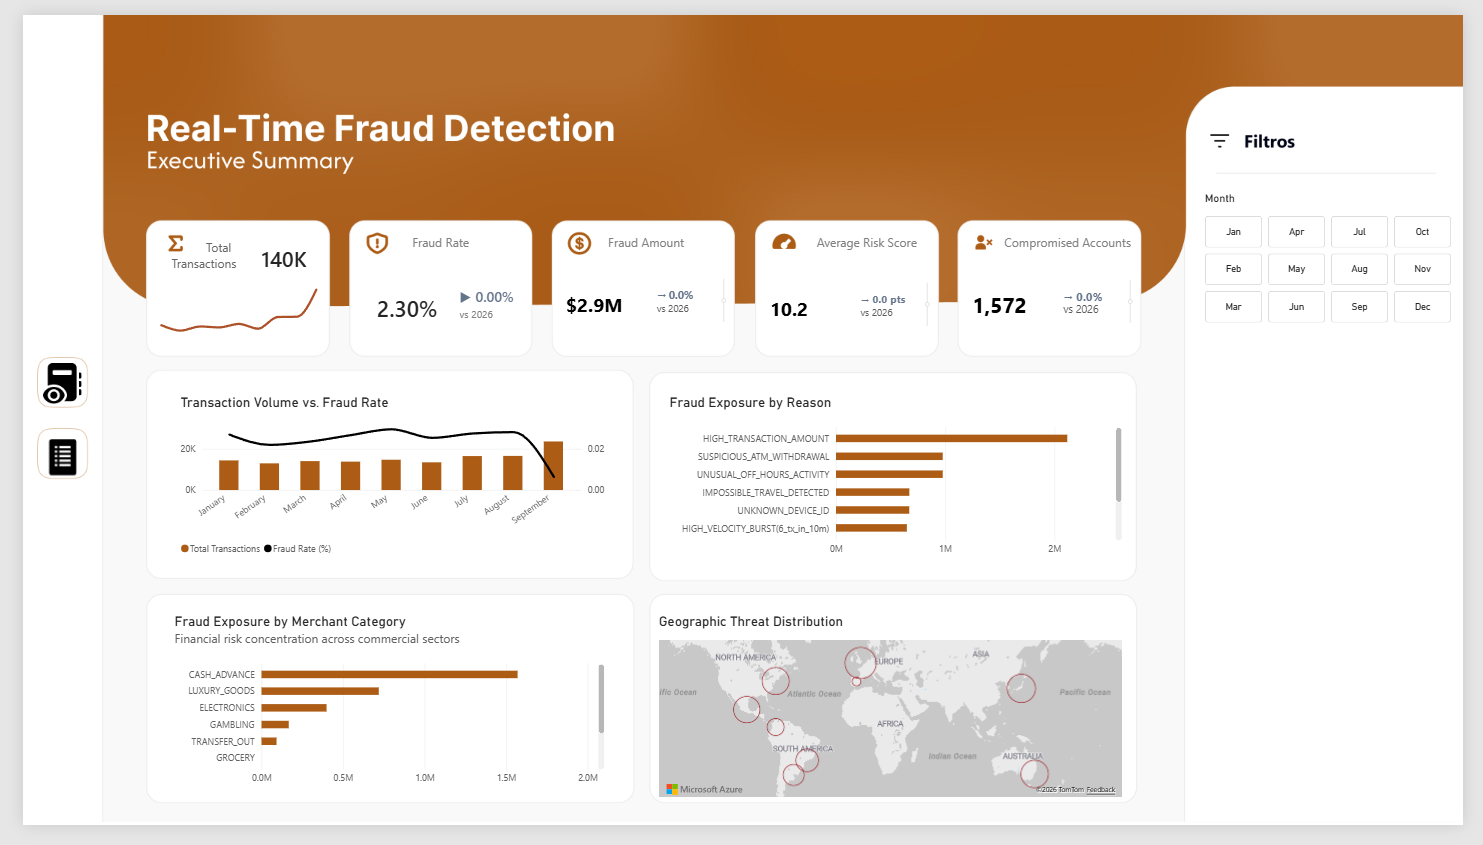

This screenshot's page, from the dashboard's own definition file:
{"tool":"powerbi","page":{"name":"Summary","canvas":[1920,1080],"ordinal":0},"visuals":[{"type":"cardVisual","fields":{"Data":["_Measures.Total Transactions"]},"box":[301.4,297.1,109,52],"z":0},{"type":"cardVisual","title":"Fraud Rate","fields":{"Data":["_Measures.Fraud Rate (%)"]},"box":[455.2,324,170,111],"z":1000},{"type":"image","box":[723.3,328.3,216.7,117.8],"z":2000},{"type":"lineChart","fields":{"Category":["Serie Temporal.time_minute.Variation.Date Hierarchy.Year","Serie Temporal.time_minute.Variation.Date Hierarchy.Month","Serie Temporal.time_minute.Variation.Date Hierarchy.Day"],"Y":["Sum(Serie Temporal.total_transactions)"]},"box":[158.1,336.2,259.5,117.1],"z":3000},{"type":"textbox","box":[198.6,297.1,109.2,62.5],"z":4000},{"type":"advancedSlicerVisual","fields":{"Values":["Dim_Calendar.Month"]},"box":[1575,236.7,330.9,174.5],"z":5000},{"type":"cardVisual","fields":{"Data":["_Measures.Fraud Rate MoM"]},"box":[565,350,120,71.2],"z":6000},{"type":"textbox","box":[487,292,137.7,31.5],"z":7000},{"type":"textbox","box":[762.2,292.2,137.7,31.5],"z":8000},{"type":"image","box":[1265.6,337,216.7,104.4],"z":9000},{"type":"textbox","box":[1303.3,292.2,177.8,31.1],"z":10000},{"type":"image","box":[996.7,335,216,112],"z":11000},{"type":"textbox","box":[1033.3,291.7,177.8,31.1],"z":12000},{"type":"lineStackedColumnComboChart","title":"Transaction Volume vs. Fraud Rate","fields":{"Category":["Dim_Calendar.Date.Variation.Date Hierarchy.Year","Dim_Calendar.Date.Variation.Date Hierarchy.Quarter","Dim_Calendar.Date.Variation.Date Hierarchy.Month","Dim_Calendar.Date.Variation.Date Hierarchy.Day"],"Y":["_Measures.Total Transactions"],"Y2":["_Measures.Fraud Rate (%)"]},"box":[193,492,598,248.4],"z":13000},{"type":"clusteredBarChart","title":" Fraud Exposure by Reason","fields":{"Category":["Por Motivo.fraud_rule"],"Y":["Sum(Por Motivo.exposed_amount)"]},"box":[846.7,491.7,635,248.3],"z":14000},{"type":"clusteredBarChart","title":"Fraud Exposure by Merchant Category","fields":{"Category":["Merchant Risk.merchant_category"],"Y":["Sum(Merchant Risk.fraud_amount)"]},"box":[186.7,783.3,605,261.7],"z":15000},{"type":"azureMap","title":"Geographic Threat Distribution","fields":{"Category":["Geo Risk.city"],"Size":["Sum(Geo Risk.fraud_amount)"],"X":["Min(Geo Risk.longitude)"],"Y":["Min(Geo Risk.latitude)"]},"box":[831.7,783.3,650,275],"z":16000},{"type":"image","box":[25.6,464.4,53.3,54.4],"z":17000},{"type":"image","box":[24.5,560,54,55],"z":18000}]}

Visuals, with their boxes on the page's 1920x1080 design canvas (x1, y1, x2, y2). These are canvas units, not pixel positions in the 1483x845 screenshot, which may show the page scaled, cropped or inside an application window:
cardVisual - _Measures.Total Transactions: [301,297,410,349]
"Fraud Rate" cardVisual: [455,324,625,435]
image: [723,328,940,446]
lineChart - Serie Temporal.time_minute.Variation.Date Hierarchy.Year x Serie Temporal.time_minute.Variation.Date Hierarchy.Month: [158,336,418,453]
textbox: [199,297,308,360]
advancedSlicerVisual - Dim_Calendar.Month: [1575,237,1906,411]
cardVisual - _Measures.Fraud Rate MoM: [565,350,685,421]
textbox: [487,292,625,324]
textbox: [762,292,900,324]
image: [1266,337,1482,441]
textbox: [1303,292,1481,323]
image: [997,335,1213,447]
textbox: [1033,292,1211,323]
"Transaction Volume vs. Fraud Rate" lineStackedColumnComboChart: [193,492,791,740]
" Fraud Exposure by Reason" clusteredBarChart: [847,492,1482,740]
"Fraud Exposure by Merchant Category" clusteredBarChart: [187,783,792,1045]
"Geographic Threat Distribution" azureMap: [832,783,1482,1058]
image: [26,464,79,519]
image: [24,560,78,615]
